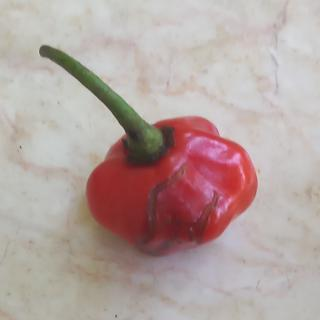striped: (130, 158, 194, 251), (187, 188, 222, 254)
